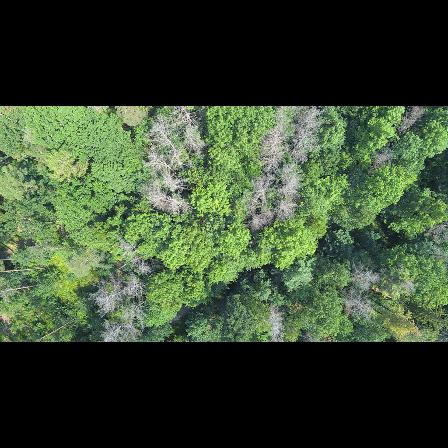Dead: (140, 186, 191, 214), (178, 108, 207, 153), (157, 121, 184, 168), (102, 312, 143, 342), (330, 288, 375, 315), (94, 281, 139, 308), (394, 106, 426, 136), (145, 151, 179, 175), (290, 129, 313, 163), (345, 268, 382, 289), (263, 306, 285, 341), (263, 126, 289, 154), (418, 220, 447, 244), (273, 195, 296, 225), (248, 182, 270, 213), (371, 147, 394, 173), (297, 108, 322, 131), (115, 239, 140, 259), (259, 155, 282, 175), (278, 162, 298, 180), (278, 178, 301, 193), (135, 262, 157, 277), (249, 214, 266, 232), (398, 277, 415, 292)
